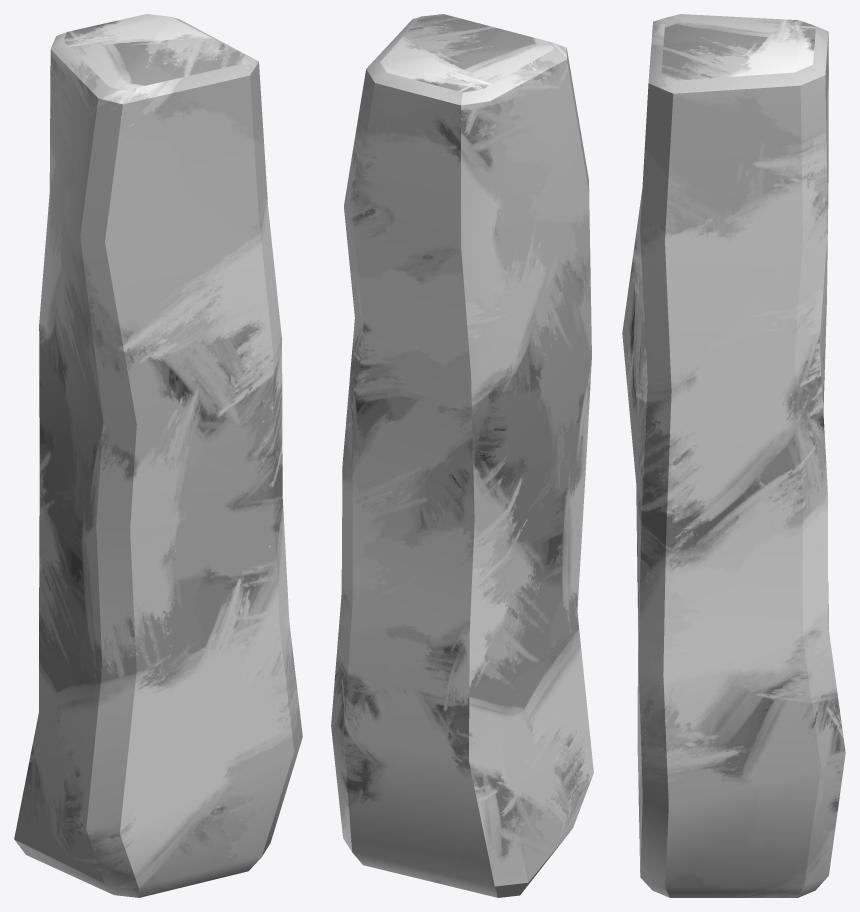
The model's file is Village_Wall_Stone_Pillar_B.fbx.
3 renders of one model, left to right at view 1: azimuth 30°, elevation 25°; view 2: azimuth 150°, elevation 25°; view 3: azimuth 270°, elevation 25°, orthographic. The views are drawn at different scales.
Visible parts, largest first — view 1: Village_Wall_2m_Stone_Pillar_A.034; view 2: Village_Wall_2m_Stone_Pillar_A.034; view 3: Village_Wall_2m_Stone_Pillar_A.034.
Part boxes in pixels (x1=…): Village_Wall_2m_Stone_Pillar_A.034: x1=14, y1=14, x2=302, y2=897; Village_Wall_2m_Stone_Pillar_A.034: x1=331, y1=14, x2=593, y2=897; Village_Wall_2m_Stone_Pillar_A.034: x1=622, y1=14, x2=845, y2=897.
Size of the model in its own units: 60.26 by 208 by 51.75.
